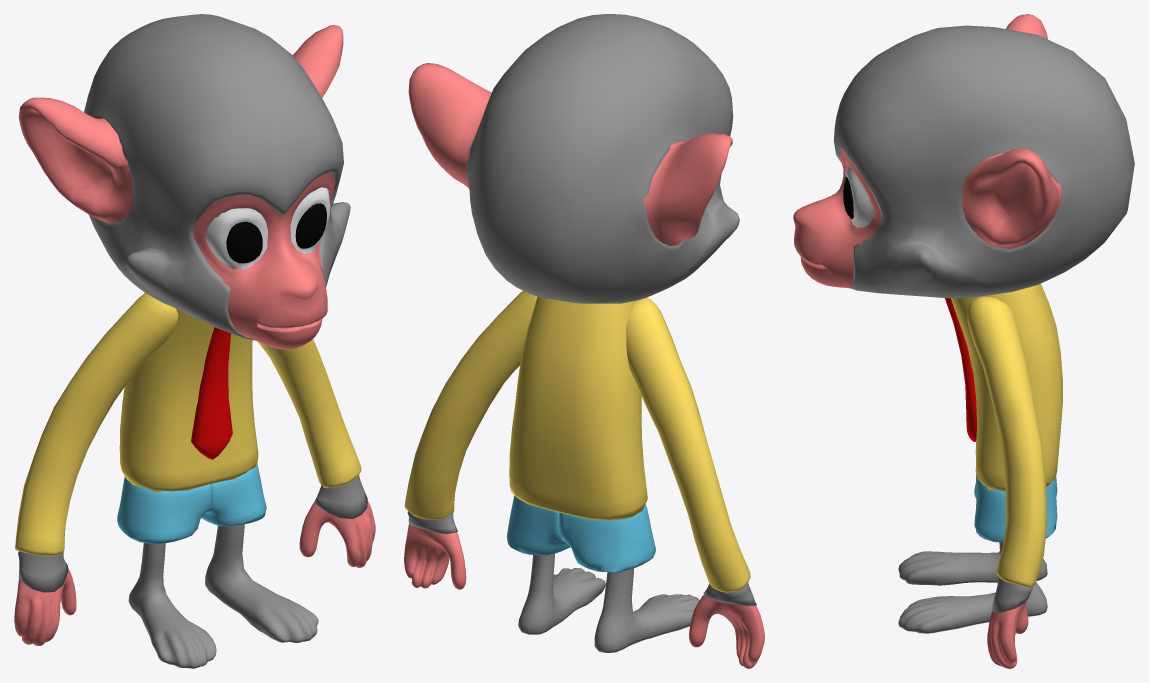
3 renders of one model, left to right at view 1: azimuth 30°, elevation 25°; view 2: azimuth 150°, elevation 25°; view 3: azimuth 270°, elevation 25°, orthographic. The views are drawn at different scales.
Visible parts, largest first — view 1: head_retopo, face_retopo_1, shirt_retopo, sleeve_retopo, sleeve_retopo_2, leg_retopo_001_2, leg_retopo_001, shorts_retopo, tie_retopo, hand_retopo, sclera_retopo, shorts_retopo_2 (+4 smaller); view 2: head_retopo, shirt_retopo, sleeve_retopo, face_retopo_1, sleeve_retopo_2, leg_retopo_001, shorts_retopo, leg_retopo_001_2, hand_retopo_2, hand_retopo, shorts_retopo_2, backhand_retopo (+1 smaller); view 3: head_retopo, face_retopo_1, sleeve_retopo_2, shirt_retopo, leg_retopo_001_2, leg_retopo_001, shorts_retopo_2, hand_retopo_2, tie_retopo, backhand_retopo_2, sclera_retopo.
Boxes of the visible parts, box(x1,y1,x2,y2) form: head_retopo: box(84, 14, 350, 340); face_retopo_1: box(18, 25, 343, 349); shirt_retopo: box(119, 292, 258, 492); sleeve_retopo: box(15, 293, 178, 555); sleeve_retopo_2: box(257, 339, 361, 487); leg_retopo_001_2: box(205, 524, 318, 642); leg_retopo_001: box(128, 543, 216, 668); shorts_retopo: box(117, 476, 211, 544); tie_retopo: box(191, 327, 232, 459); hand_retopo: box(14, 568, 76, 645); sclera_retopo: box(205, 187, 330, 269); shorts_retopo_2: box(201, 463, 266, 526); head_retopo: box(466, 14, 739, 303); shirt_retopo: box(509, 296, 647, 520); sleeve_retopo: box(626, 297, 750, 592); face_retopo_1: box(408, 63, 732, 245); sleeve_retopo_2: box(404, 291, 537, 519); leg_retopo_001: box(594, 568, 699, 652); shorts_retopo: box(559, 504, 655, 572); leg_retopo_001_2: box(518, 554, 605, 634); hand_retopo_2: box(404, 523, 466, 589); hand_retopo: box(689, 595, 764, 668); shorts_retopo_2: box(506, 495, 569, 555); backhand_retopo: box(703, 582, 756, 605); head_retopo: box(833, 25, 1134, 298); face_retopo_1: box(793, 14, 1061, 288); sleeve_retopo_2: box(967, 296, 1046, 587); shirt_retopo: box(951, 284, 1062, 491); leg_retopo_001_2: box(898, 542, 1047, 633); leg_retopo_001: box(898, 551, 1047, 585); shorts_retopo_2: box(974, 475, 1057, 542); hand_retopo_2: box(987, 601, 1028, 668); tie_retopo: box(944, 298, 976, 441); backhand_retopo_2: box(991, 576, 1032, 612); sclera_retopo: box(845, 164, 873, 227).
Bounding box in the file's own units: 356 × 563 × 309.
